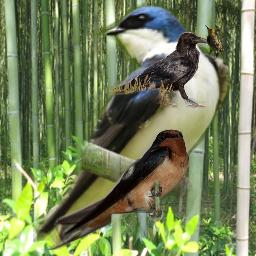Crow: (109, 32, 211, 108)
Swallow: (33, 3, 232, 247), (40, 129, 189, 250)
Woodpecker: (205, 25, 222, 58)
